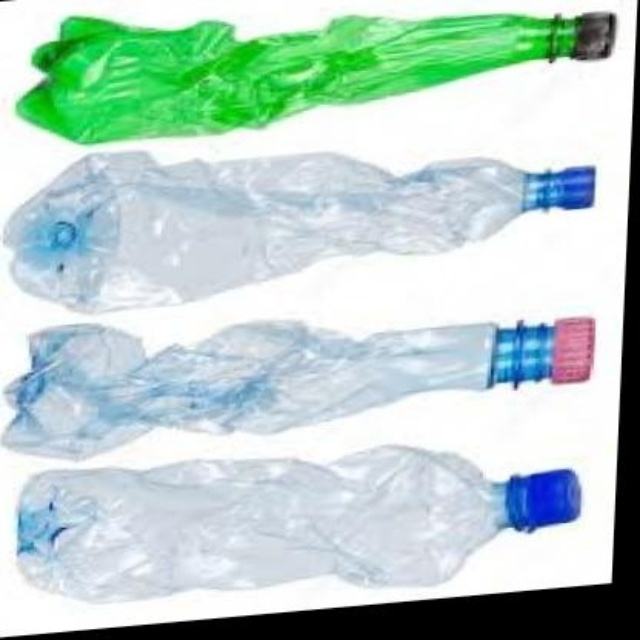trash: (5, 152, 594, 311), (17, 445, 578, 600), (3, 318, 592, 457), (17, 12, 614, 143)
